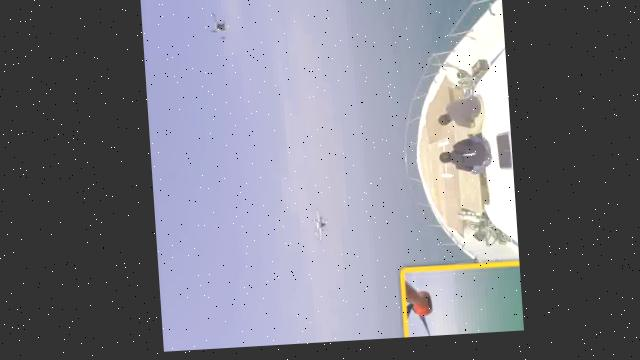drone: (206, 10, 232, 49), (303, 210, 328, 250)
